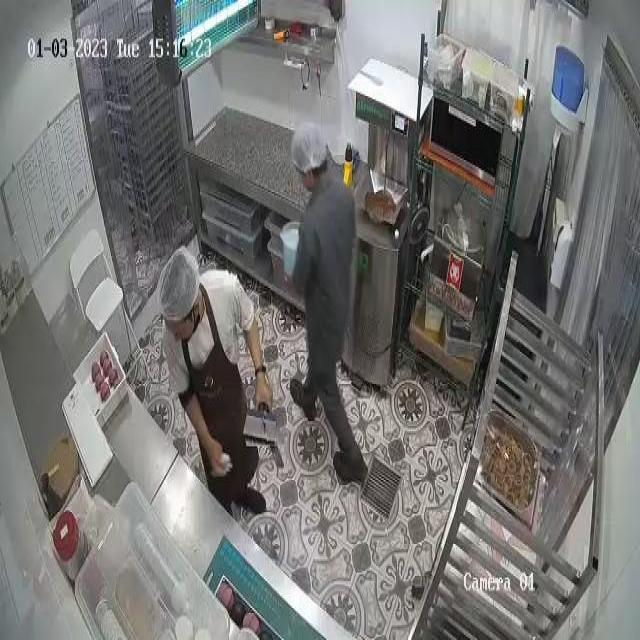hairnet: (161, 250, 197, 322), (294, 125, 324, 172)
